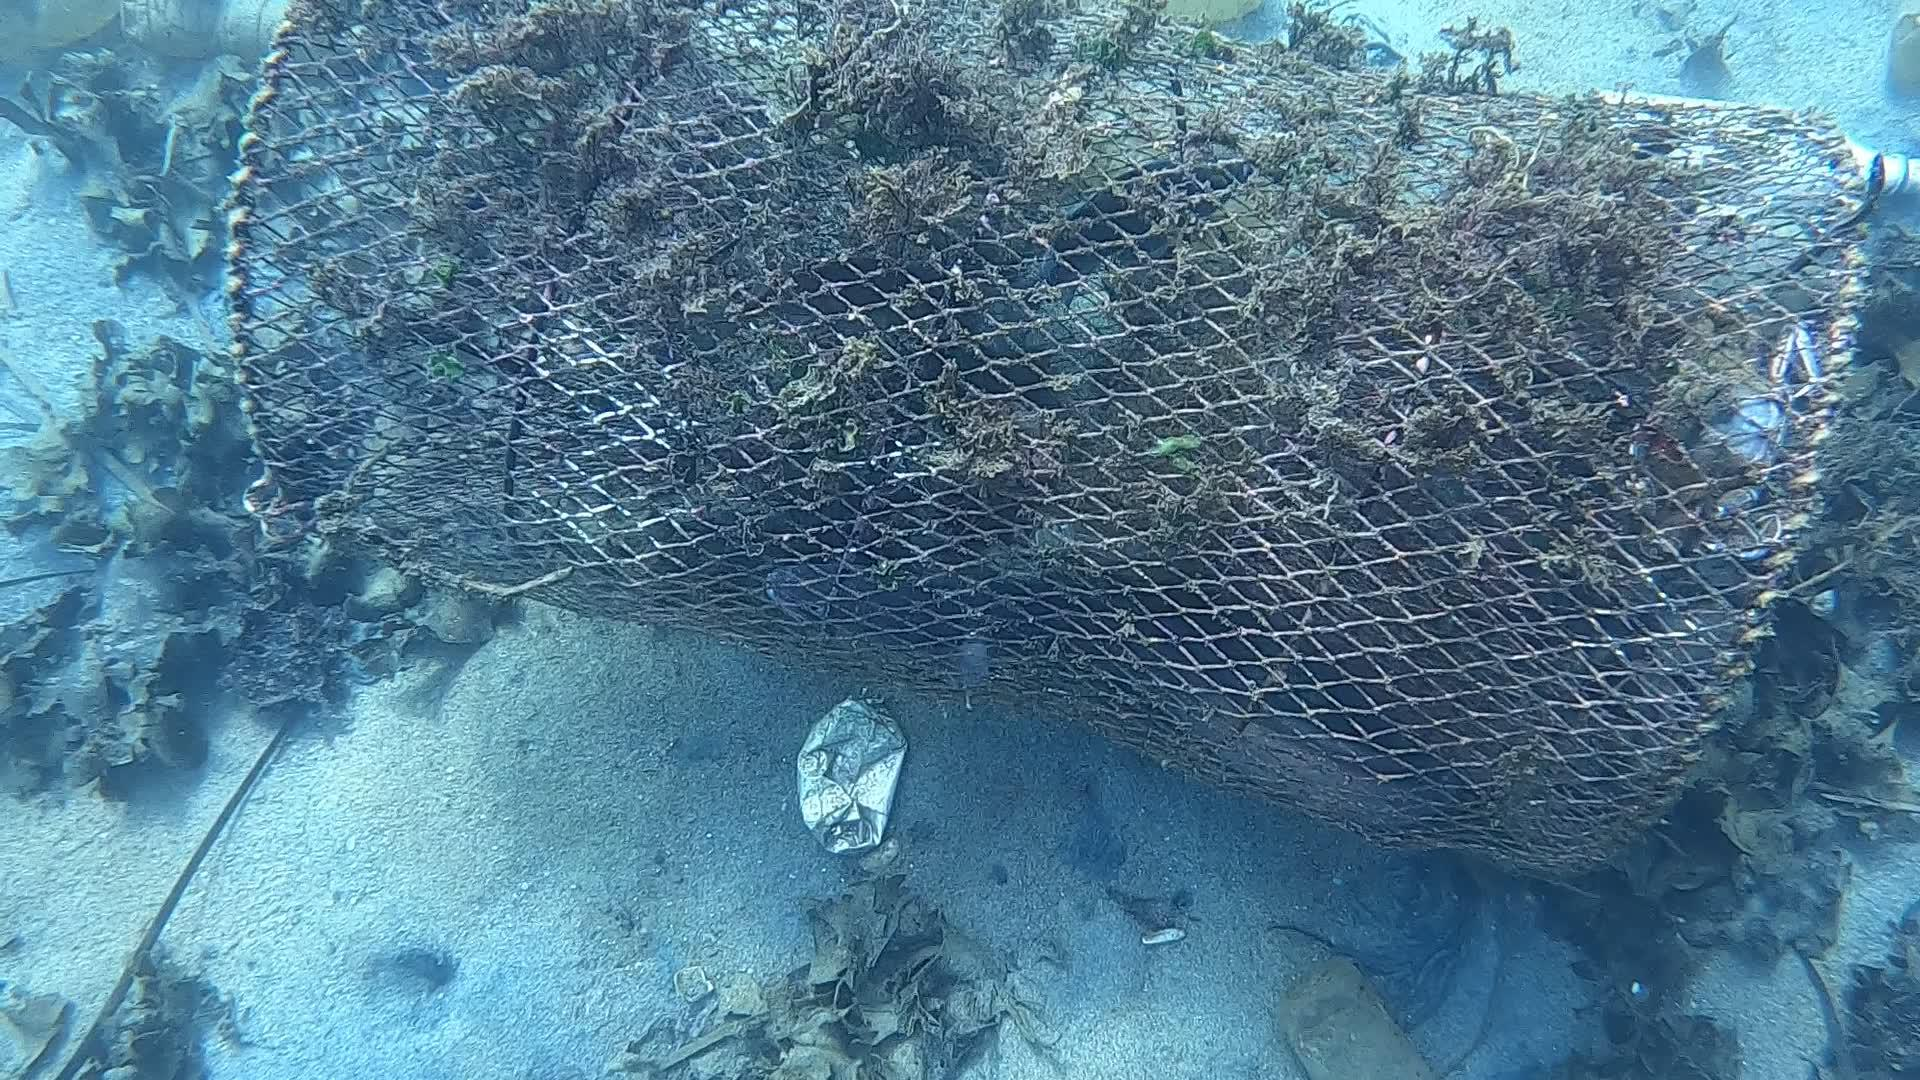spring fish trap: (220, 3, 1875, 869)
